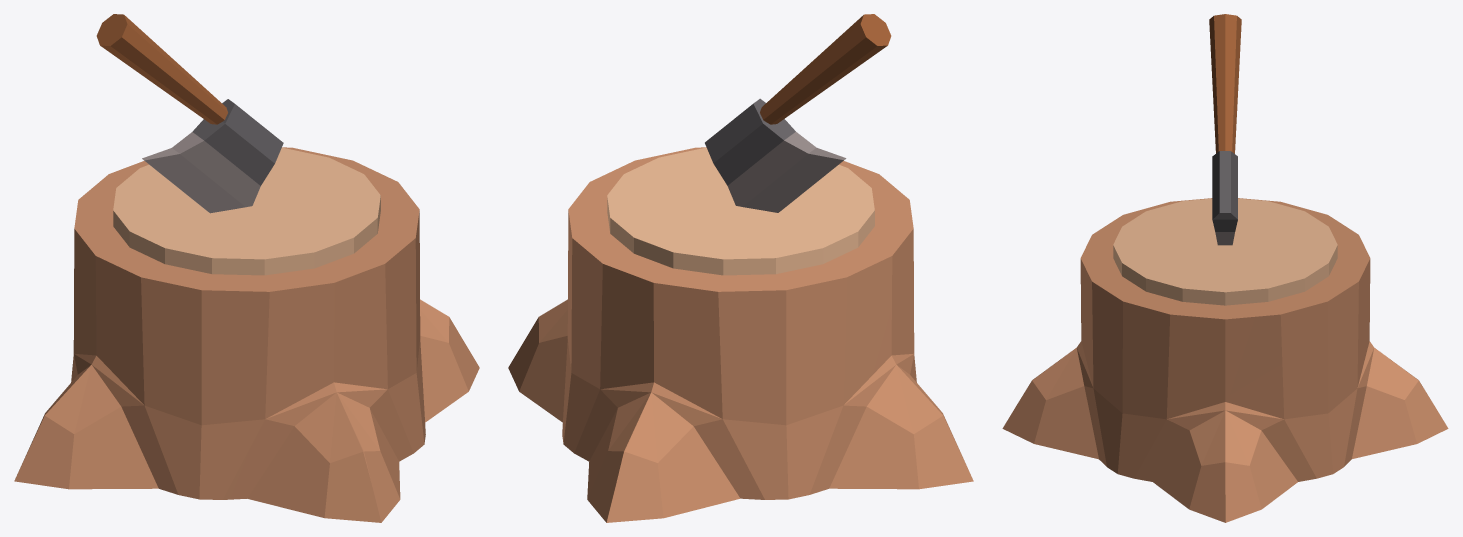
The model's file is treeaxe.fbx.
3 renders of one model, left to right at view 1: azimuth 30°, elevation 25°; view 2: azimuth 150°, elevation 25°; view 3: azimuth 270°, elevation 25°, orthographic. The views are drawn at different scales.
Parts seen in each view (by area): view 1: Root, axe; view 2: Root, axe; view 3: Root, axe.
Boxes of the visible parts, box(x1,y1,x2,y2) form: Root: box(14, 147, 479, 522); axe: box(96, 14, 283, 213); Root: box(508, 147, 973, 522); axe: box(705, 14, 891, 212); Root: box(1002, 198, 1448, 522); axe: box(1209, 14, 1241, 245).
Size of the model in its own units: 65.21 by 65.23 by 58.89.
